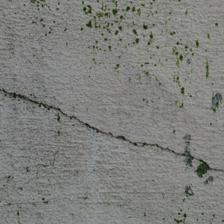Crack: (3, 44, 211, 128)
